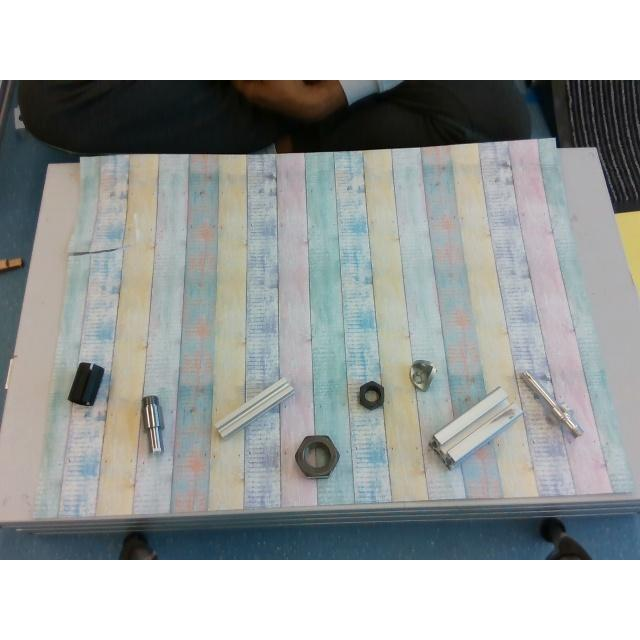Axis2: (142, 396, 162, 452)
F20_20_G: (215, 378, 293, 438)
M20: (358, 381, 382, 409)
M30: (295, 434, 339, 478)
S40_40_G: (430, 386, 522, 466)
